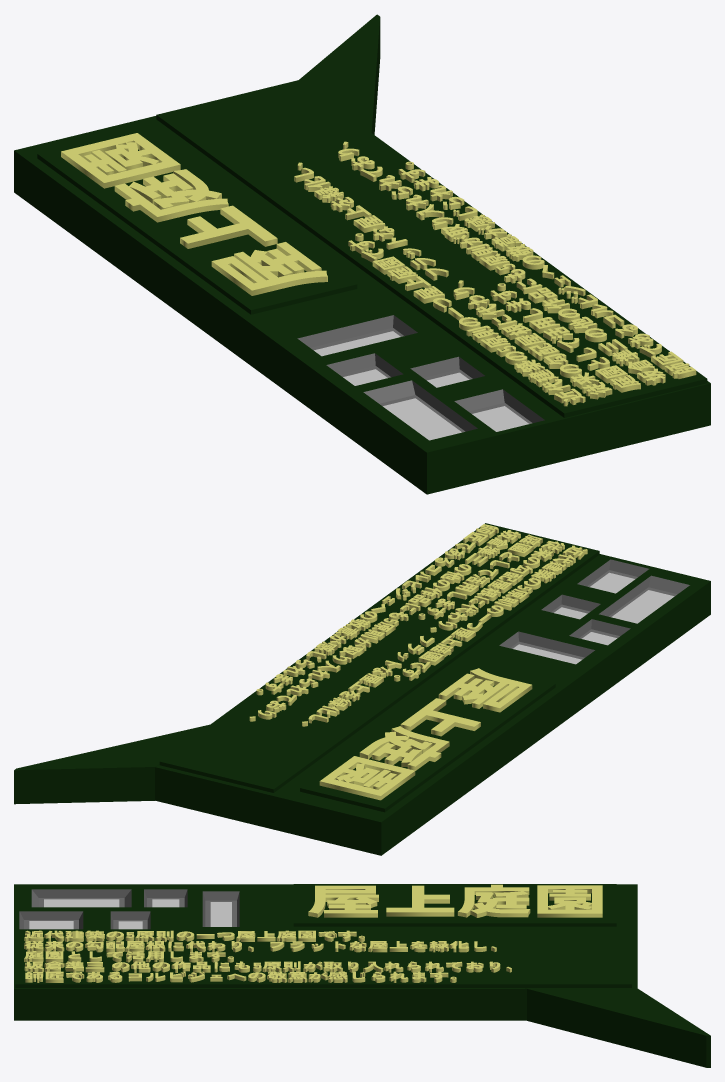
The model's file is fukidasi-okujouteien.obj.
3 views of the same model, one above another, from view 1: azimuth 30°, elevation 25°; view 2: azimuth 150°, elevation 25°; view 3: azimuth 270°, elevation 25° (orthographic). The views are drawn at different scales.
Parts seen in each view (by area): view 1: 立方体, 立方体.002, テキスト.001, テキスト, 立方体.003, 立方体.001; view 2: 立方体, 立方体.002, テキスト.001, テキスト, 立方体.001, 立方体.003; view 3: 立方体, 立方体.002, テキスト.001, 立方体.001, テキスト, 立方体.003.
Boxes of the visible parts, bbox=[...] form: 立方体: bbox=[14, 116, 710, 494]; 立方体.002: bbox=[156, 80, 707, 417]; テキスト.001: bbox=[294, 141, 696, 406]; テキスト: bbox=[61, 133, 327, 295]; 立方体.003: bbox=[37, 128, 357, 314]; 立方体.001: bbox=[299, 14, 380, 134]; 立方体: bbox=[155, 554, 710, 855]; 立方体.002: bbox=[159, 523, 599, 792]; テキスト.001: bbox=[249, 524, 587, 726]; テキスト: bbox=[319, 668, 532, 800]; 立方体.001: bbox=[14, 724, 209, 804]; 立方体.003: bbox=[300, 663, 555, 812]; 立方体: bbox=[14, 884, 637, 1020]; 立方体.002: bbox=[15, 931, 631, 987]; テキスト.001: bbox=[24, 930, 511, 982]; 立方体.001: bbox=[525, 988, 710, 1067]; テキスト: bbox=[308, 884, 602, 917]; 立方体.003: bbox=[293, 884, 616, 926].
Size of the model in its own units: 6.4 by 0.7778 by 12.42.
